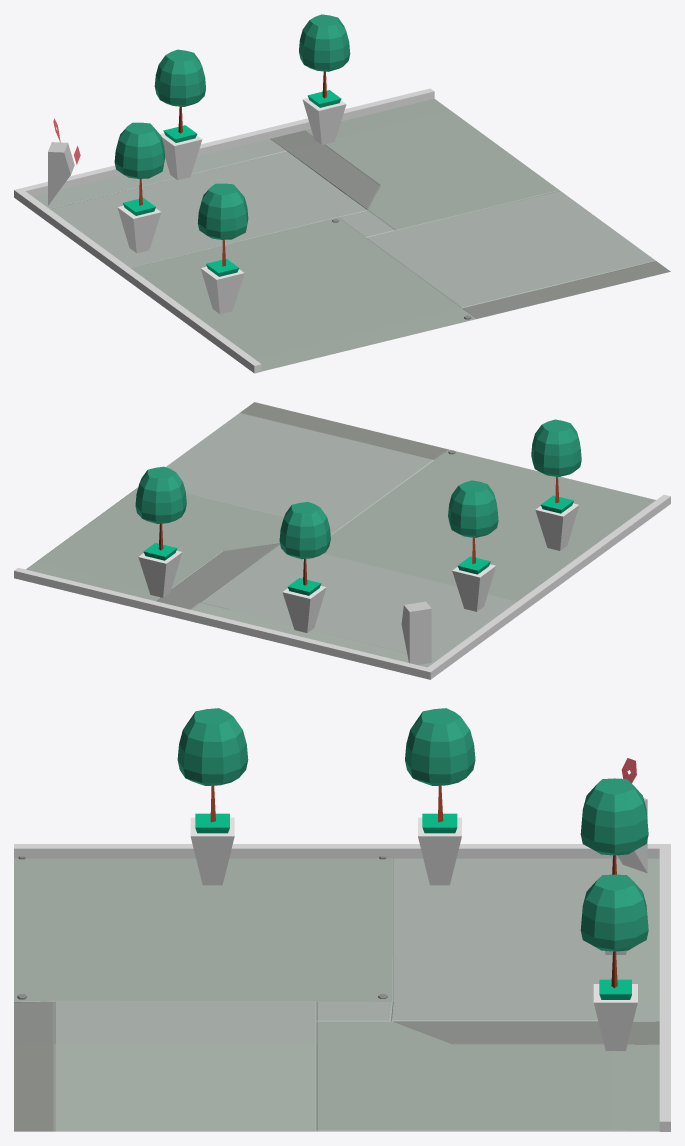
3 views of the same model, one above another, from view 1: azimuth 30°, elevation 25°; view 2: azimuth 150°, elevation 25°; view 3: azimuth 270°, elevation 25° (orthographic). The views are drawn at different scales.
Visible parts, largest first — view 1: Scifi_Panel_04_Plaza014_group4.027, Cube.1036_Cube.1160, base_singlePot03.018_base_singlePot03.014, base_singlePot03.020, base_singlePot03.019_base_singlePot03.015, base_singlePot03.021, panel.009_panel.012; view 2: Scifi_Panel_04_Plaza014_group4.027, Cube.1036_Cube.1160, base_singlePot03.019_base_singlePot03.015, base_singlePot03.018_base_singlePot03.014, base_singlePot03.021, base_singlePot03.020, panel.009_panel.012; view 3: Scifi_Panel_04_Plaza014_group4.027, Cube.1036_Cube.1160, base_singlePot03.020, base_singlePot03.021, base_singlePot03.018_base_singlePot03.014, base_singlePot03.019_base_singlePot03.015, panel.009_panel.012.
Part boxes in pixels (x1=…): Scifi_Panel_04_Plaza014_group4.027: x1=33, y1=99, x2=670, y2=371; Cube.1036_Cube.1160: x1=14, y1=88, x2=434, y2=373; base_singlePot03.018_base_singlePot03.014: x1=299, y1=14, x2=350, y2=144; base_singlePot03.020: x1=197, y1=183, x2=248, y2=314; base_singlePot03.019_base_singlePot03.015: x1=154, y1=49, x2=205, y2=180; base_singlePot03.021: x1=114, y1=122, x2=164, y2=253; panel.009_panel.012: x1=48, y1=118, x2=80, y2=205; Scifi_Panel_04_Plaza014_group4.027: x1=26, y1=402, x2=655, y2=667; Cube.1036_Cube.1160: x1=14, y1=494, x2=670, y2=679; base_singlePot03.019_base_singlePot03.015: x1=279, y1=502, x2=330, y2=632; base_singlePot03.018_base_singlePot03.014: x1=135, y1=466, x2=186, y2=597; base_singlePot03.021: x1=448, y1=480, x2=498, y2=611; base_singlePot03.020: x1=531, y1=419, x2=581, y2=550; panel.009_panel.012: x1=401, y1=601, x2=431, y2=664; Scifi_Panel_04_Plaza014_group4.027: x1=14, y1=856, x2=659, y2=1131; Cube.1036_Cube.1160: x1=14, y1=844, x2=670, y2=1131; base_singlePot03.020: x1=177, y1=708, x2=248, y2=885; base_singlePot03.021: x1=405, y1=708, x2=475, y2=885; base_singlePot03.018_base_singlePot03.014: x1=580, y1=874, x2=648, y2=1050; base_singlePot03.019_base_singlePot03.015: x1=580, y1=778, x2=648, y2=954; panel.009_panel.012: x1=617, y1=758, x2=647, y2=873.
Bounding box in the file's own units: 10 × 2.78 × 10.
